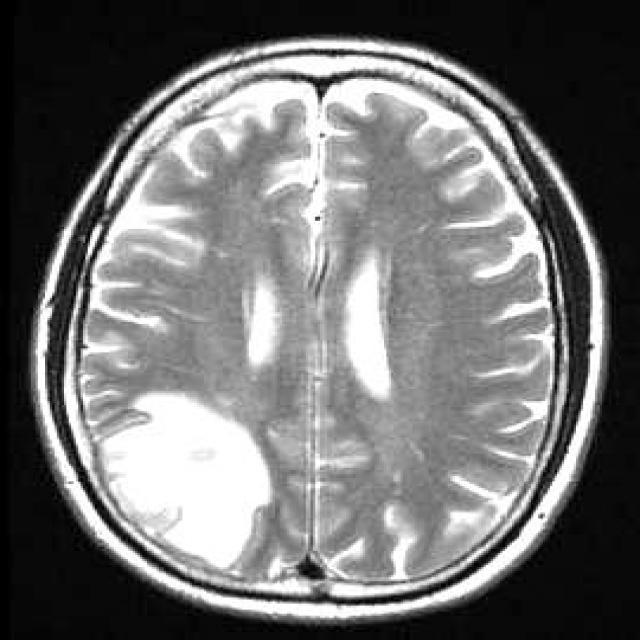tumor: (97, 393, 273, 585)
